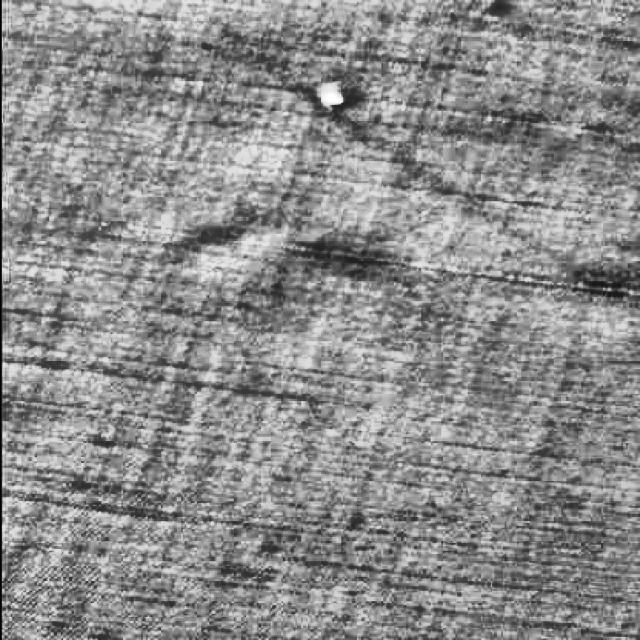hole: (310, 77, 354, 115)
